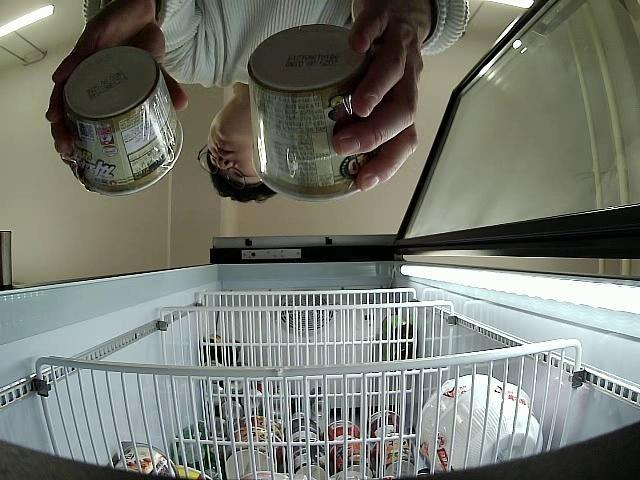04_chapagetti_S: (248, 22, 378, 202), (65, 42, 184, 194)
